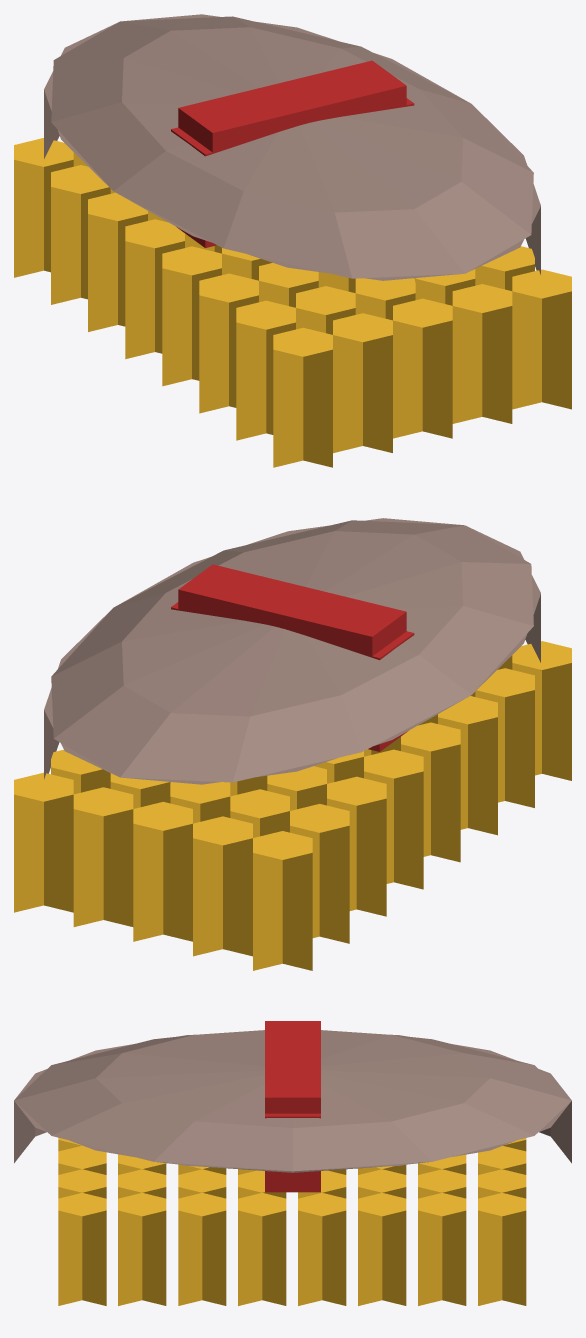
Rendered from borste.glb.
The picture shows the model from 3 angles, top to bottom: view 1: azimuth 30°, elevation 25°; view 2: azimuth 150°, elevation 25°; view 3: azimuth 270°, elevation 25°; orthographic projection. The views are drawn at different scales.
Parts seen in each view (by area): view 1: borste; view 2: borste; view 3: borste.
Boxes of the visible parts, bbox=[...] form: borste: bbox=[14, 14, 571, 467]; borste: bbox=[14, 518, 571, 970]; borste: bbox=[14, 1021, 571, 1305].
Size of the model in its own units: 0.24 by 0.1625 by 0.4.
